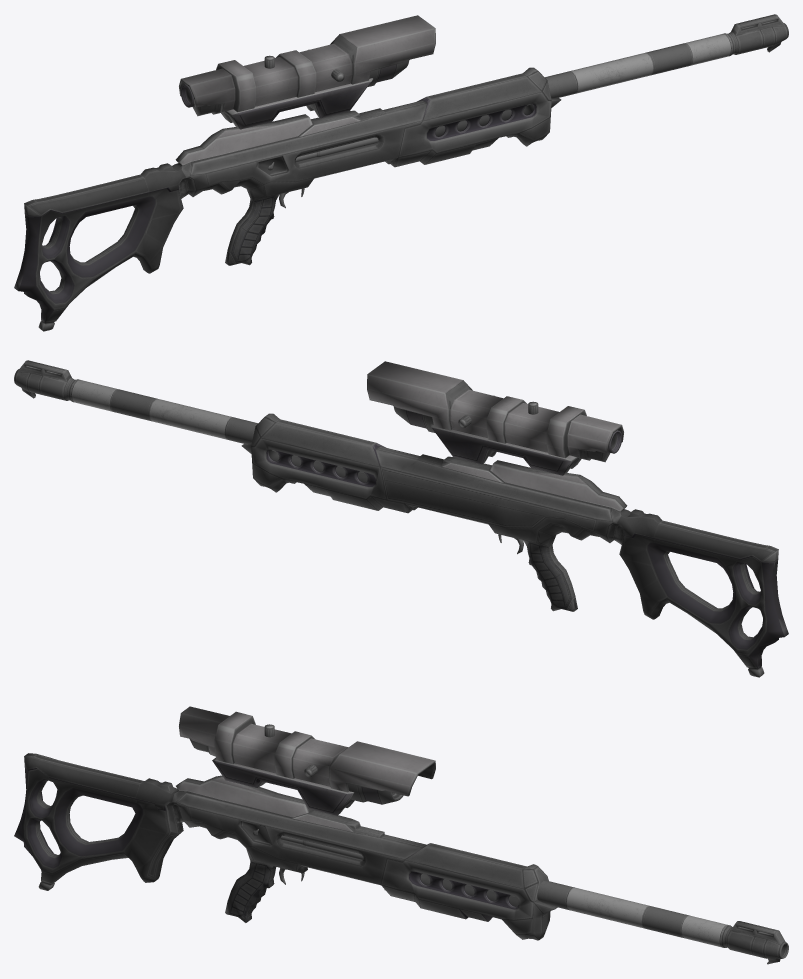
Rendered from KSR29_Sniper_GAME_1024.glb.
3 views of the same model, one above another, from view 1: azimuth 30°, elevation 25°; view 2: azimuth 150°, elevation 25°; view 3: azimuth 330°, elevation 25° (orthographic).
Parts seen in each view (by area): view 1: KSR29_clean.obj; view 2: KSR29_clean.obj; view 3: KSR29_clean.obj.
Part boxes in pixels (left/top/right/bottom): KSR29_clean.obj: left=14, top=14, right=788, bottom=331; KSR29_clean.obj: left=14, top=360, right=788, bottom=677; KSR29_clean.obj: left=14, top=706, right=788, bottom=964.
Bounding box in the file's own units: 9.81 × 2.64 × 0.7005.
1 material, 1 textured.
